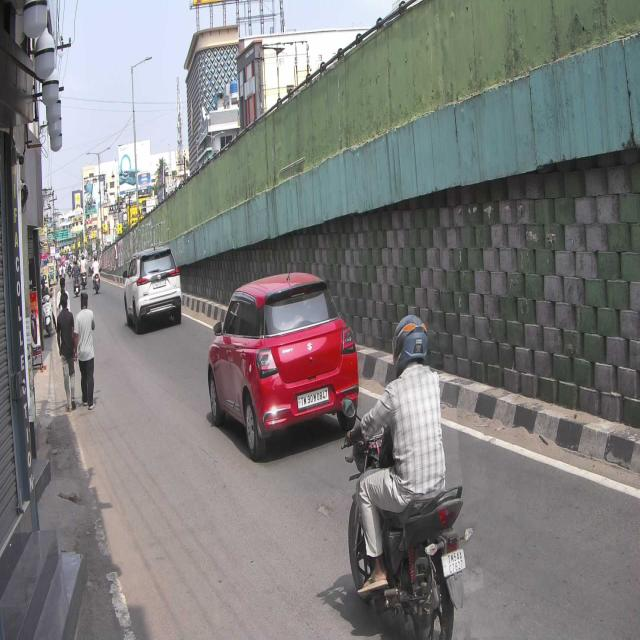single_rider: (340, 313, 476, 640)
